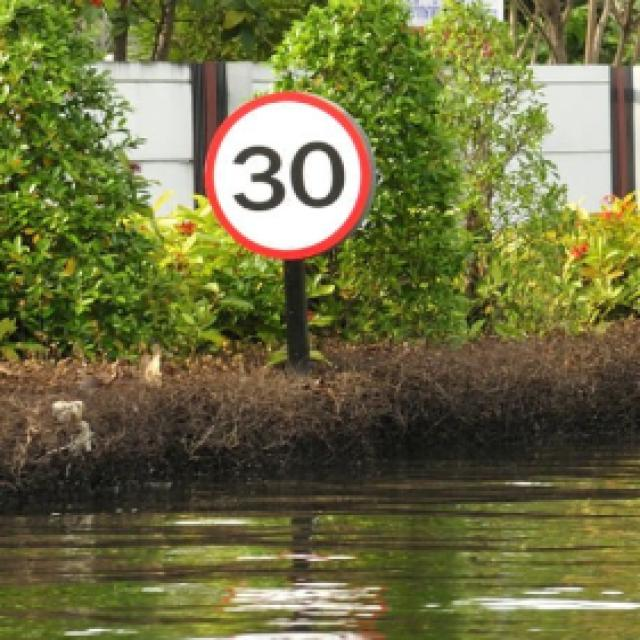Speed limit 30: (201, 89, 377, 264)
